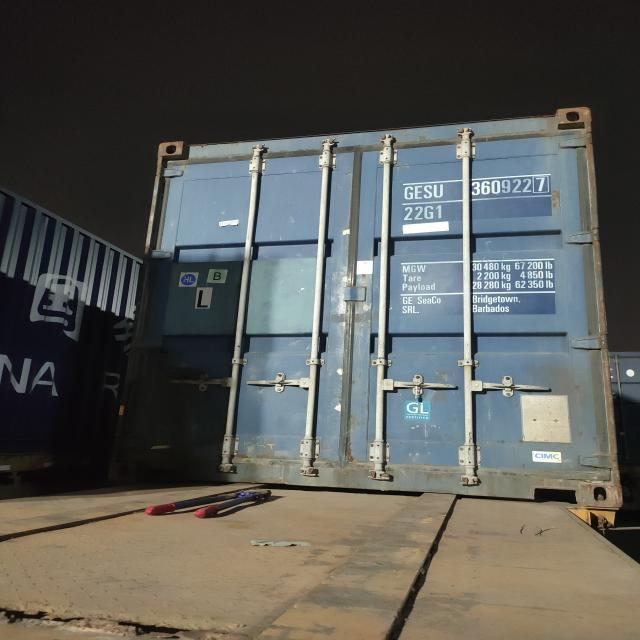ISO: (403, 203, 447, 222)
container_number: (411, 178, 548, 198)
